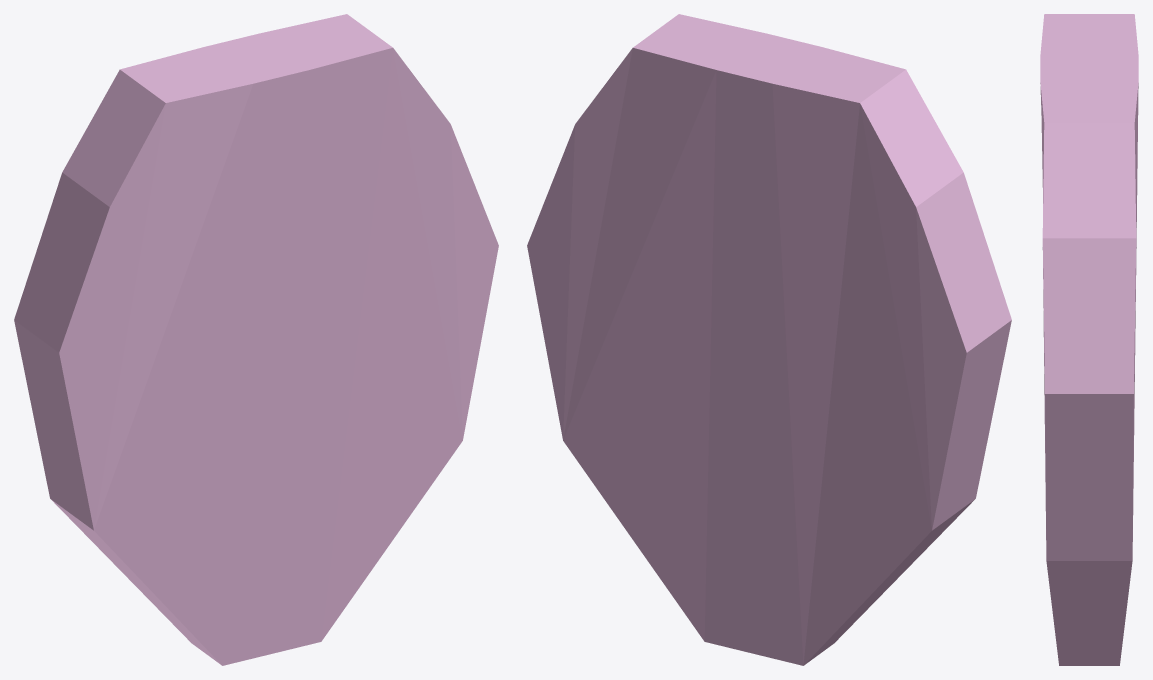
Rendered from radishSliceInside.obj.
3 views of the same model, side by side, from view 1: azimuth 30°, elevation 25°; view 2: azimuth 150°, elevation 25°; view 3: azimuth 270°, elevation 25° (orthographic).
Visible parts, largest first — view 1: radish.002; view 2: radish.002; view 3: radish.002.
Boxes of the visible parts, x1=… form: radish.002: x1=14, y1=14, x2=498, y2=665; radish.002: x1=527, y1=14, x2=1011, y2=665; radish.002: x1=1040, y1=14, x2=1138, y2=665.
Bounding box in the file's own units: 0.0882 × 0.112 × 0.0174.
